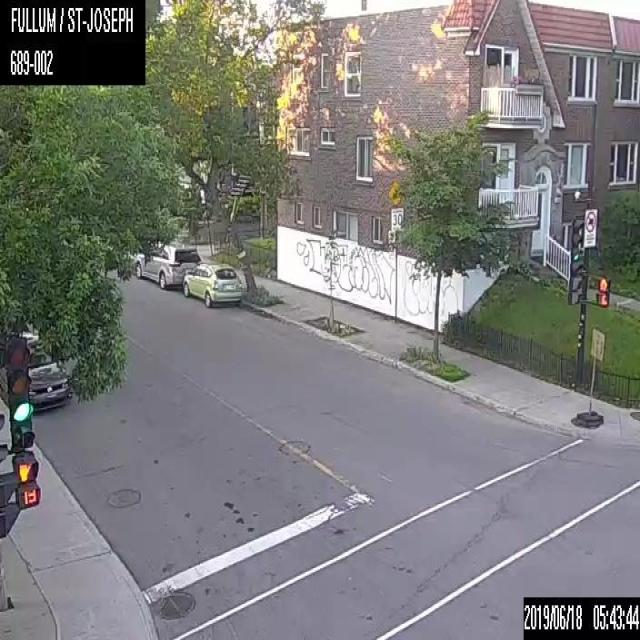construction: (570, 325, 604, 428)
vehicle: (0, 329, 69, 414), (132, 240, 202, 288), (181, 262, 244, 310)
